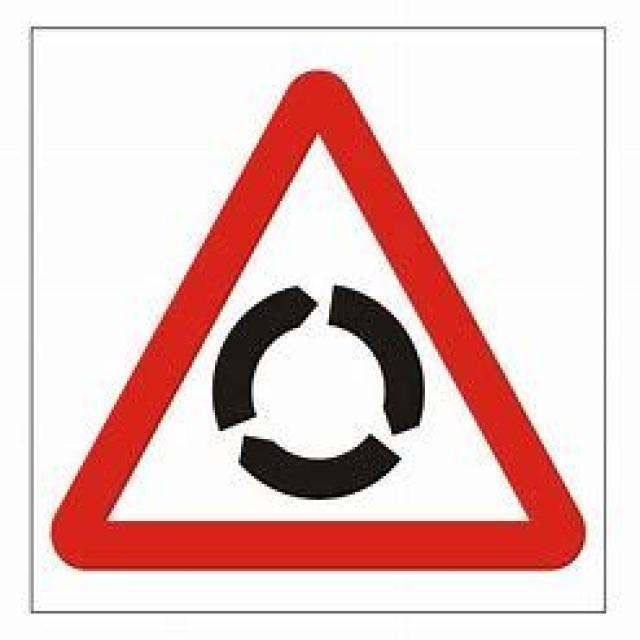roundabout: (50, 66, 591, 571)
